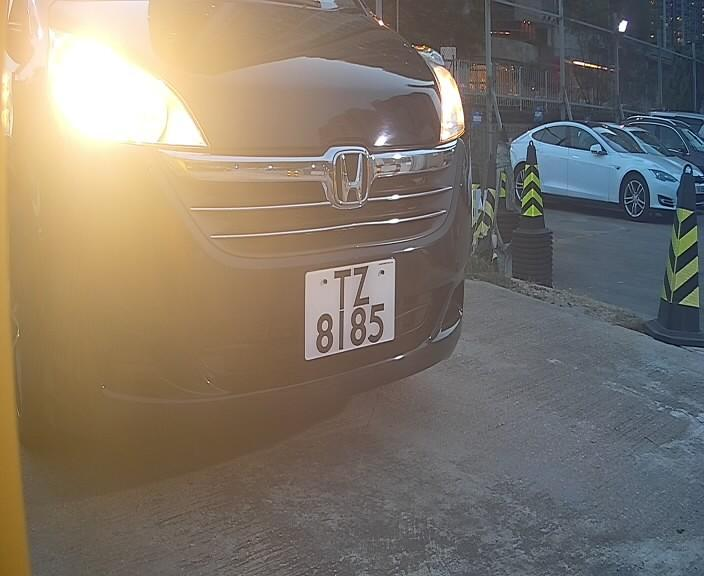License Plate: (296, 250, 403, 371)
